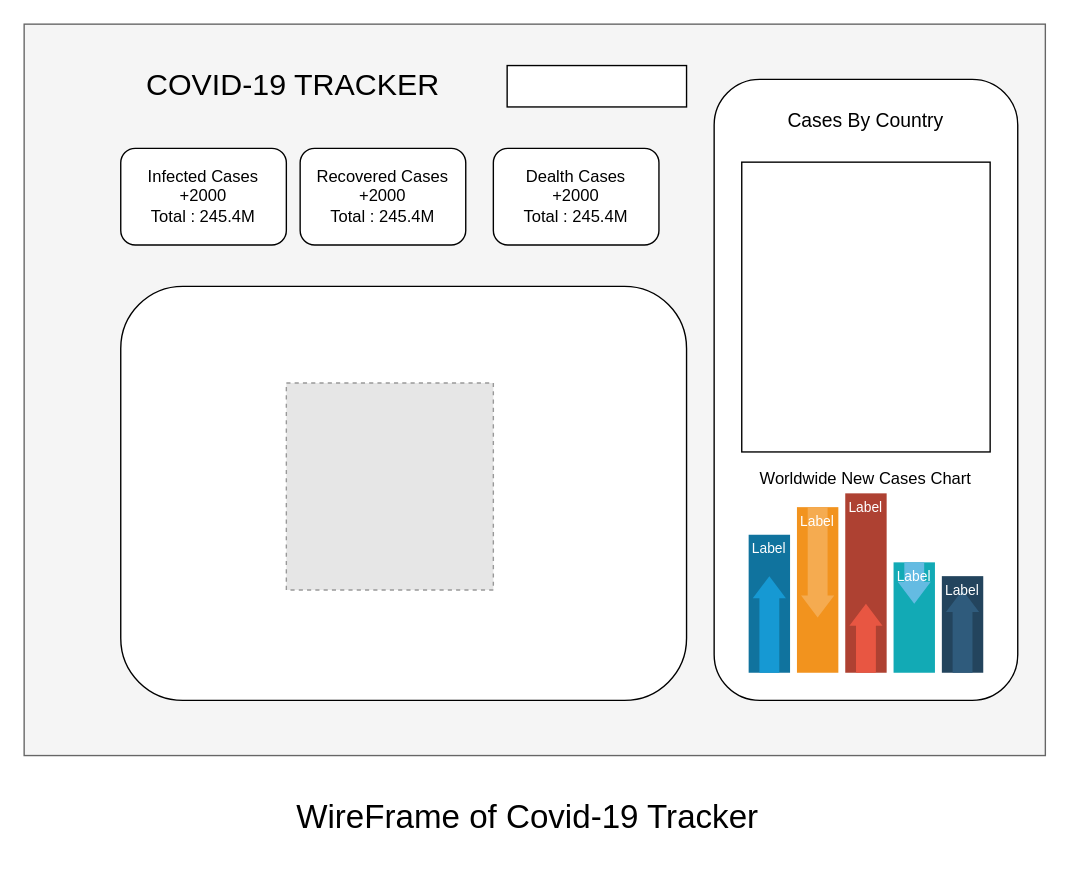
This 1070x876 diagram has some shape labels left out. Grey dashed boxes stand in for pictures. Each missing label, with the box of its shape:
Value 1 Value 2 Value 3 Value 4 Value 5 Value 6 Value 7 Value 8 Value 9: (740, 161, 990, 452)
Worldwide Dropdown: (506, 64, 687, 107)
